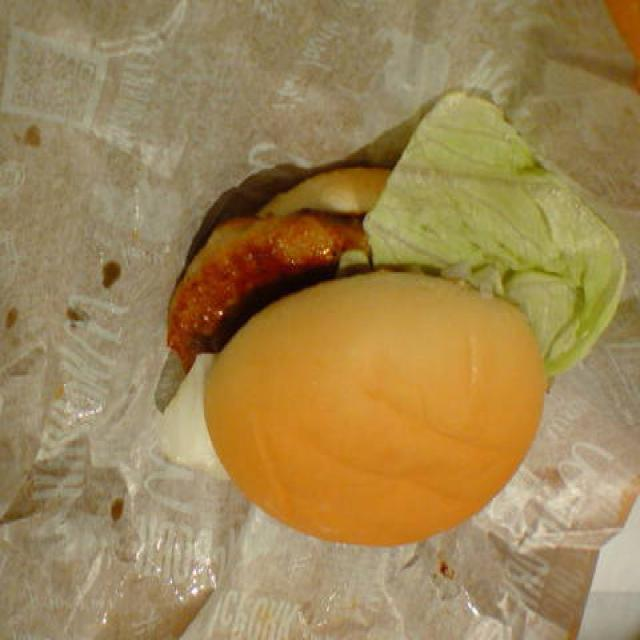Hamburger: (176, 151, 580, 545)
